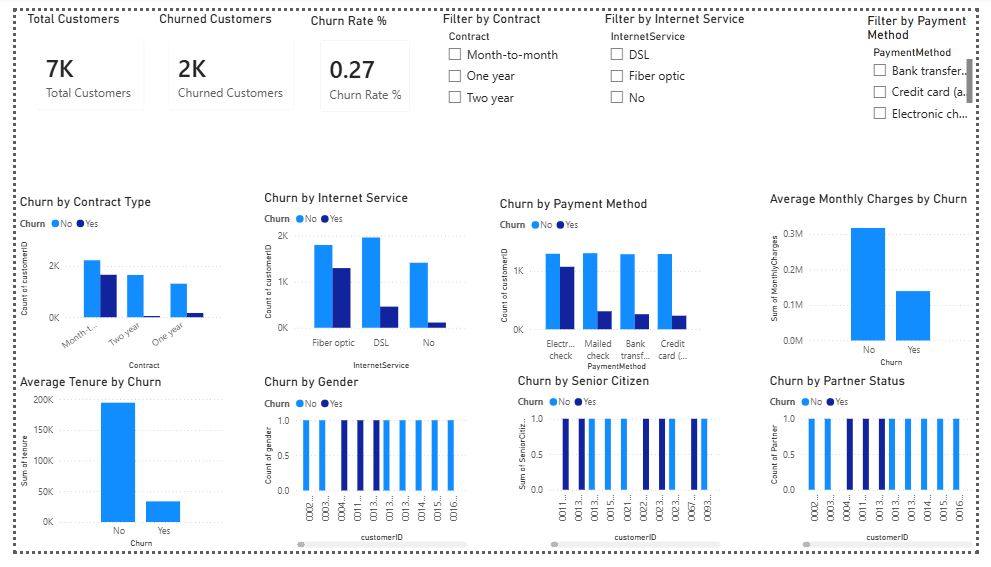

This screenshot's page, from the dashboard's own definition file:
{"tool":"powerbi","page":{"name":"Page 1","canvas":[1280,720],"ordinal":0},"visuals":[{"type":"cardVisual","title":"Total Customers","fields":{"Data":["telco_churn_cleaned.Total Customers"]},"box":[10,0,178,150],"z":0},{"type":"cardVisual","title":"Churned Customers","fields":{"Data":["telco_churn_cleaned.Churned Customers"]},"box":[186,0,202,150],"z":1000},{"type":"cardVisual","title":"Churn Rate %","fields":{"Data":["telco_churn_cleaned.Churn Rate %"]},"box":[388,2,154,150],"z":2000},{"type":"clusteredColumnChart","title":"Churn by Contract Type","fields":{"Category":["telco_churn_cleaned.Contract"],"Y":["CountNonNull(telco_churn_cleaned.customerID)"],"Series":["telco_churn_cleaned.Churn"]},"box":[0,244,280,238],"z":3000},{"type":"clusteredColumnChart","title":"Churn by Internet Service","fields":{"Y":["CountNonNull(telco_churn_cleaned.customerID)"],"Category":["telco_churn_cleaned.InternetService"],"Series":["telco_churn_cleaned.Churn"]},"box":[326,238,280,244],"z":4000},{"type":"clusteredColumnChart","title":"Churn by Payment Method","fields":{"Category":["telco_churn_cleaned.PaymentMethod"],"Y":["CountNonNull(telco_churn_cleaned.customerID)"],"Series":["telco_churn_cleaned.Churn"]},"box":[640,246,280,238],"z":5000},{"type":"clusteredColumnChart","title":"Average Monthly Charges by Churn","fields":{"Category":["telco_churn_cleaned.Churn"],"Y":["Sum(telco_churn_cleaned.MonthlyCharges)"]},"box":[1000,240,280,238],"z":6000},{"type":"clusteredColumnChart","title":"Average Tenure by Churn","fields":{"Y":["Sum(telco_churn_cleaned.tenure)"],"Category":["telco_churn_cleaned.Churn"]},"box":[0,484,280,236],"z":7000},{"type":"clusteredColumnChart","title":"Churn by Gender","fields":{"Y":["CountNonNull(telco_churn_cleaned.gender)"],"Category":["telco_churn_cleaned.customerID"],"Series":["telco_churn_cleaned.Churn"]},"box":[326,484,280,236],"z":8000},{"type":"clusteredColumnChart","title":"Churn by Senior Citizen","fields":{"Y":["Sum(telco_churn_cleaned.SeniorCitizen)"],"Category":["telco_churn_cleaned.customerID"],"Series":["telco_churn_cleaned.Churn"]},"box":[664,482,280,238],"z":9000},{"type":"clusteredColumnChart","title":"Churn by Partner Status","fields":{"Y":["CountNonNull(telco_churn_cleaned.Partner)"],"Category":["telco_churn_cleaned.customerID"],"Series":["telco_churn_cleaned.Churn"]},"box":[1000,482,280,238],"z":10000},{"type":"slicer","title":"Filter by Contract","fields":{"Values":["telco_churn_cleaned.Contract"]},"box":[564,0,216,150],"z":11000},{"type":"slicer","title":"Filter by Internet Service","fields":{"Values":["telco_churn_cleaned.InternetService"]},"box":[780,0,202,150],"z":12000},{"type":"slicer","title":"Filter by Payment Method","fields":{"Values":["telco_churn_cleaned.PaymentMethod"]},"box":[1130,2,150,150],"z":13000}]}

Visuals, with their boxes in screenshot pixels (x1, y1, x2, y2), scaled from the page's 1280x720 canvas onto the 991x567 screenshot:
"Total Customers" cardVisual: bbox(8, 0, 146, 118)
"Churned Customers" cardVisual: bbox(144, 0, 300, 118)
"Churn Rate %" cardVisual: bbox(300, 2, 420, 120)
"Churn by Contract Type" clusteredColumnChart: bbox(0, 192, 217, 380)
"Churn by Internet Service" clusteredColumnChart: bbox(252, 187, 469, 380)
"Churn by Payment Method" clusteredColumnChart: bbox(496, 194, 712, 381)
"Average Monthly Charges by Churn" clusteredColumnChart: bbox(774, 189, 990, 376)
"Average Tenure by Churn" clusteredColumnChart: bbox(0, 381, 217, 566)
"Churn by Gender" clusteredColumnChart: bbox(252, 381, 469, 566)
"Churn by Senior Citizen" clusteredColumnChart: bbox(514, 380, 731, 566)
"Churn by Partner Status" clusteredColumnChart: bbox(774, 380, 990, 566)
"Filter by Contract" slicer: bbox(437, 0, 604, 118)
"Filter by Internet Service" slicer: bbox(604, 0, 760, 118)
"Filter by Payment Method" slicer: bbox(875, 2, 990, 120)
